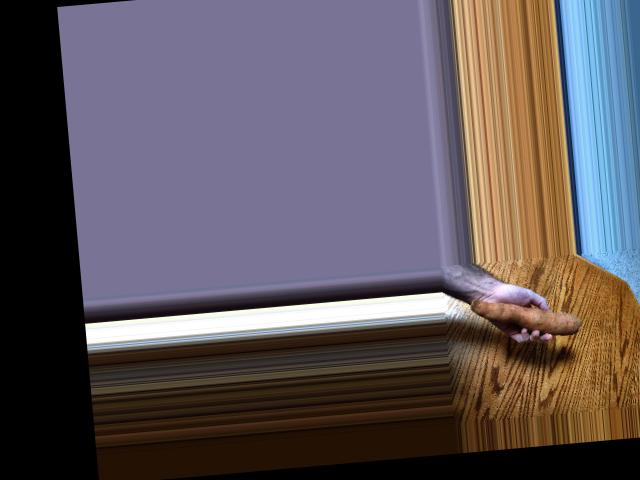sweet_potato: (476, 295, 577, 345)
